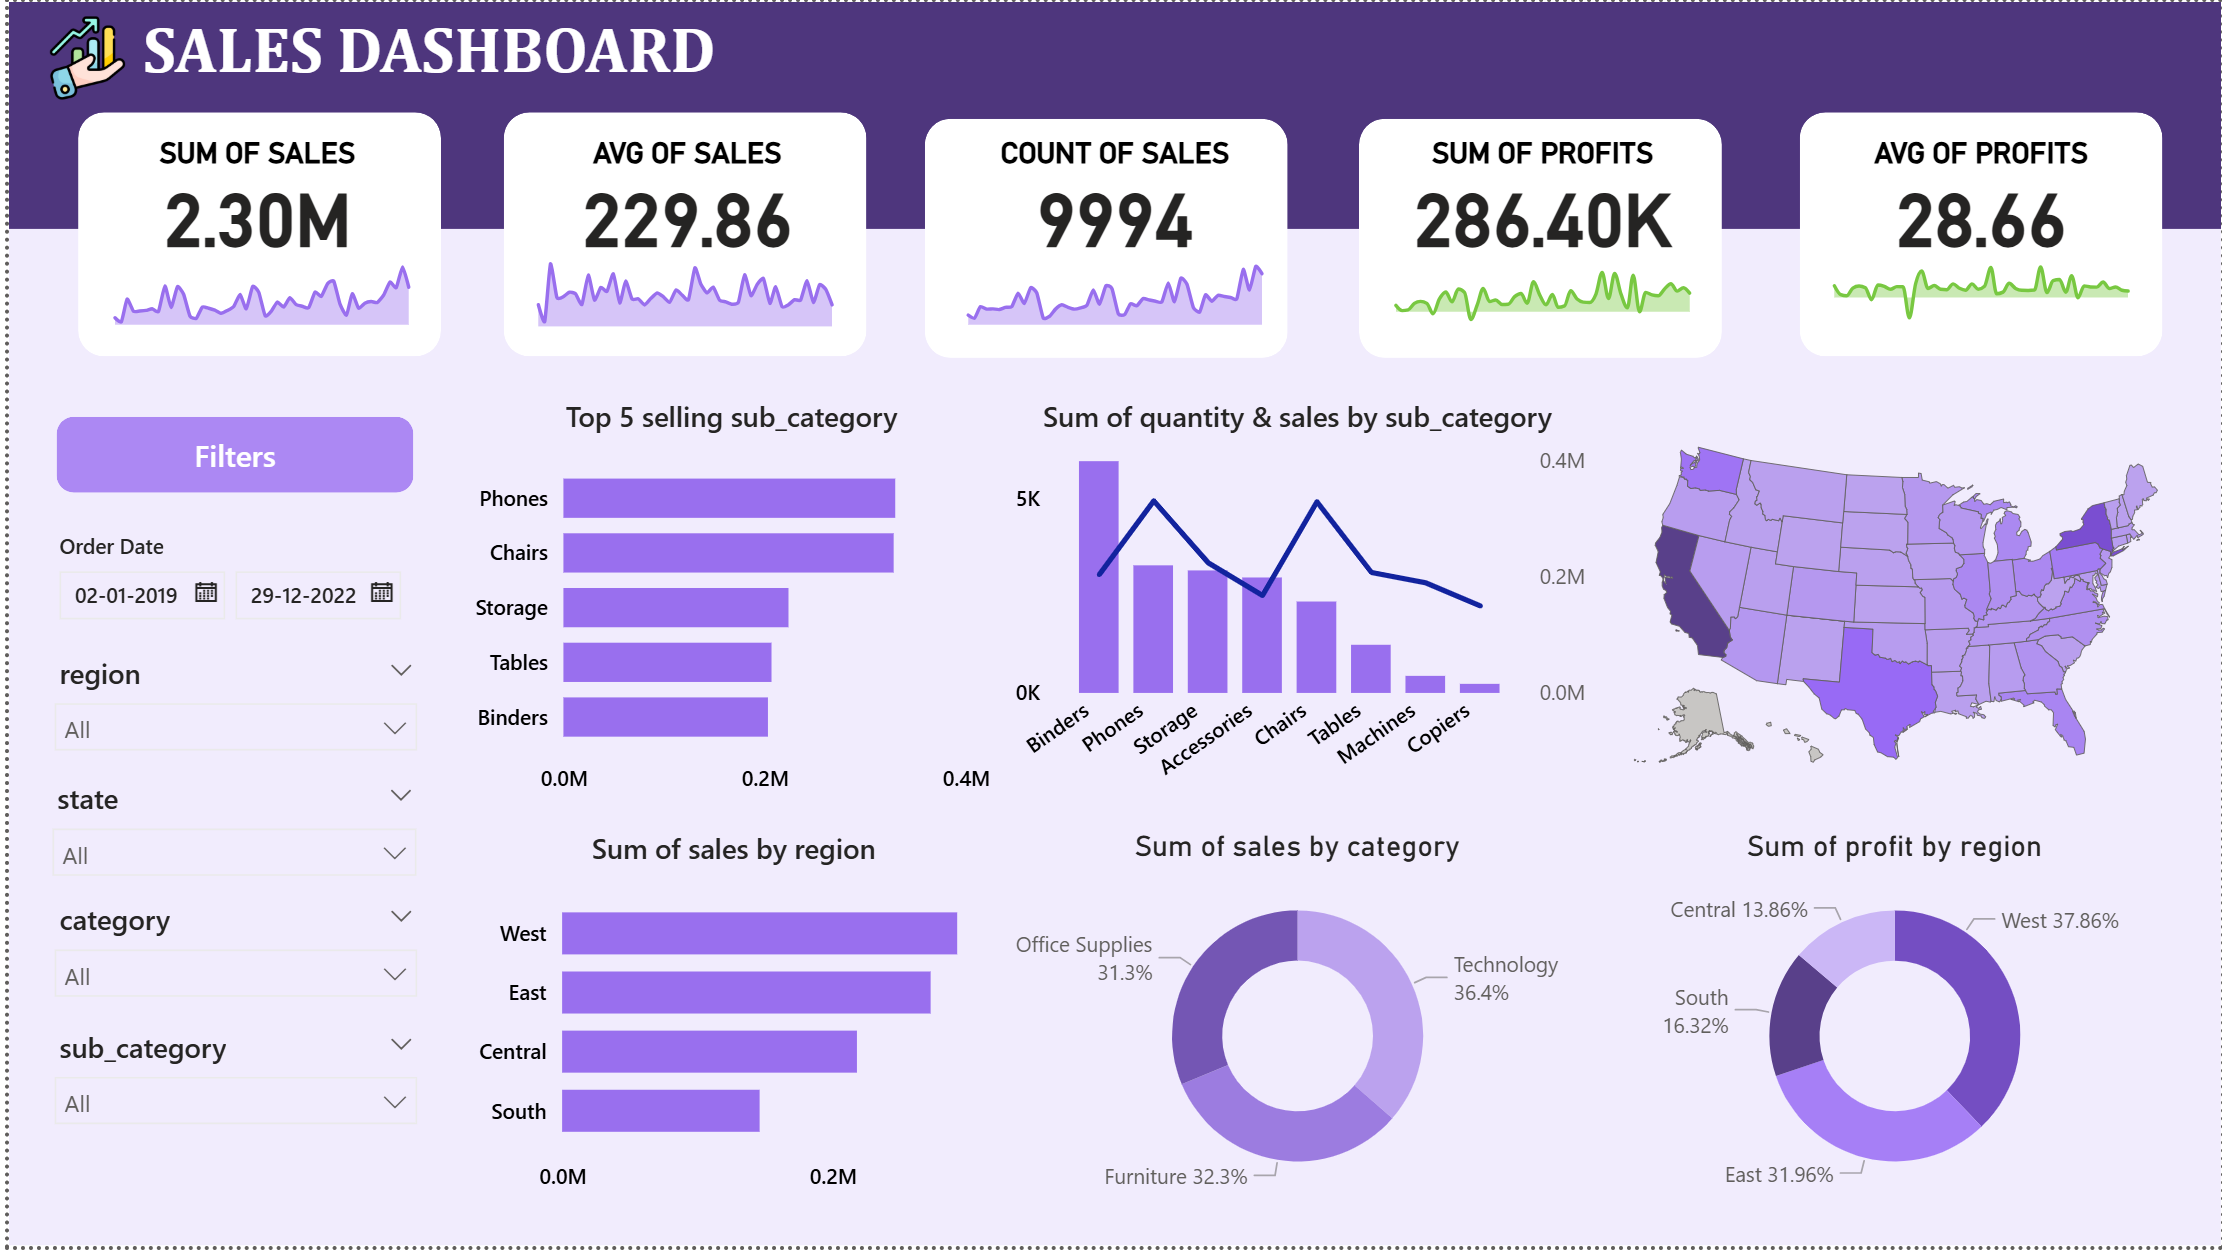

This screenshot's page, from the dashboard's own definition file:
{"tool":"powerbi","page":{"name":"Sales Board","canvas":[1280,720],"ordinal":0},"visuals":[{"type":"group","id":"g1","title":"Group 1","box":[0,0,1280.3,720],"z":0},{"type":"shape","box":[0,104.3,1280,615.7],"z":0,"group":"g1"},{"type":"shape","box":[0,0,1280.3,131.3],"z":1000,"group":"g1"},{"type":"shape","box":[285.7,64.3,210,141.4],"z":1000},{"type":"shape","box":[530,67.1,210,138.6],"z":2000},{"type":"shape","box":[781.4,67.1,210,138.6],"z":3000},{"type":"shape","box":[1035.7,64.3,210,141.4],"z":4000},{"type":"shape","box":[40,64.3,210,141.4],"z":5000},{"type":"image","box":[16.4,0,58.1,64.4],"z":6000},{"type":"slicer","fields":{"Values":["orders.region"]},"box":[16.5,372.5,229.7,72.5],"z":7000},{"type":"textbox","box":[72,0,347.2,61.9],"z":8000},{"type":"card","title":"SUM OF SALES","fields":{"Values":["Sum(orders.sales)"]},"box":[44.3,77.6,200,70],"z":9000},{"type":"card","title":"SUM OF PROFITS","fields":{"Values":["Sum(orders.profit)"]},"box":[787.6,77.6,200,70],"z":10000},{"type":"card","title":"AVG OF SALES","fields":{"Values":["Avg(orders.sales)"]},"box":[292.1,77.6,200,70],"z":11000},{"type":"card","title":"AVG OF PROFITS","fields":{"Values":["Avg(orders.profit)"]},"box":[1041.2,77.5,200,70],"z":12000},{"type":"card","title":"COUNT OF SALES","fields":{"Values":["CountNonNull(orders.sales)"]},"box":[539.9,77.6,200,70],"z":13000},{"type":"donutChart","fields":{"Category":["orders.region"],"Y":["Sum(orders.profit)"]},"box":[918.8,478.8,345,220],"z":14000},{"type":"donutChart","fields":{"Y":["Sum(orders.sales)"],"Category":["orders.category"]},"box":[572.5,478.8,346.2,220],"z":15000},{"type":"shapeMap","fields":{"Value":["Sum(orders.sales)"],"Category":["orders.state"]},"box":[918.8,228.8,346.2,240],"z":16000},{"type":"slicer","fields":{"Values":["orders.state"]},"box":[15.4,445.1,230.8,70.3],"z":17000},{"type":"barChart","title":"Top 5 selling sub_category","fields":{"Y":["Sum(orders.sales)"],"Category":["orders.sub_category"]},"box":[263.8,228.8,308.8,240],"z":18000},{"type":"slicer","fields":{"Values":["orders.category"]},"box":[16.5,515.4,229.7,72.5],"z":19000},{"type":"barChart","fields":{"Y":["Sum(orders.sales)"],"Category":["orders.region"]},"box":[265,478.8,308.8,220],"z":20000},{"type":"slicer","fields":{"Values":["orders.sub_category"]},"box":[16.5,589,229.7,72.5],"z":21000},{"type":"lineChart","fields":{"Y":["Sum(orders.sales)"],"Category":["orders.order_date.Variation.Date Hierarchy.Year","orders.order_date.Variation.Date Hierarchy.Month"]},"box":[45.7,131.4,200,61.4],"z":22000},{"type":"slicer","fields":{"Values":["orders.order_date"]},"box":[16.5,301.1,229.7,71.4],"z":23000},{"type":"lineChart","fields":{"Y":["Avg(orders.sales)"],"Category":["orders.order_date.Variation.Date Hierarchy.Year","orders.order_date.Variation.Date Hierarchy.Month"]},"box":[291.4,131.4,200,61.4],"z":24000},{"type":"lineChart","fields":{"Y":["CountNonNull(orders.sales)"],"Category":["orders.order_date.Variation.Date Hierarchy.Year","orders.order_date.Variation.Date Hierarchy.Month"]},"box":[540,131.4,200,61.4],"z":25000},{"type":"lineChart","fields":{"Category":["orders.order_date.Variation.Date Hierarchy.Year","orders.order_date.Variation.Date Hierarchy.Month"],"Y":["Sum(orders.profit)"]},"box":[787.1,137.1,200,61.4],"z":26000},{"type":"lineChart","fields":{"Category":["orders.order_date.Variation.Date Hierarchy.Year","orders.order_date.Variation.Date Hierarchy.Month"],"Y":["Avg(orders.profit)"]},"box":[1041.4,135.7,200,61.4],"z":27000},{"type":"lineClusteredColumnComboChart","title":"Sum of quantity & sales by sub_category","fields":{"Category":["orders.sub_category"],"Y":["Sum(orders.quantity)"],"Y2":["Sum(orders.sales)"]},"box":[572.5,228.8,346.2,240],"z":28000},{"type":"shape","box":[27.5,239.6,206.6,44],"z":29000}]}

Visuals, with their boxes in screenshot pixels (x1, y1, x2, y2), scaled from the page's 1280x720 canvas onto the 2222x1260 screenshot:
"Group 1" group: locate(0, 0, 2221, 1259)
shape: locate(0, 183, 2221, 1259)
shape: locate(0, 0, 2221, 230)
shape: locate(496, 113, 861, 360)
shape: locate(920, 117, 1285, 360)
shape: locate(1356, 117, 1721, 360)
shape: locate(1798, 113, 2162, 360)
shape: locate(69, 113, 434, 360)
image: locate(28, 0, 129, 113)
slicer - orders.region: locate(29, 652, 427, 779)
textbox: locate(125, 0, 728, 108)
"SUM OF SALES" card: locate(77, 136, 424, 258)
"SUM OF PROFITS" card: locate(1367, 136, 1714, 258)
"AVG OF SALES" card: locate(507, 136, 854, 258)
"AVG OF PROFITS" card: locate(1807, 136, 2155, 258)
"COUNT OF SALES" card: locate(937, 136, 1284, 258)
donutChart - orders.region x Sum(orders.profit): locate(1595, 838, 2194, 1223)
donutChart - Sum(orders.sales) x orders.category: locate(994, 838, 1595, 1223)
shapeMap - Sum(orders.sales) x orders.state: locate(1595, 400, 2196, 820)
slicer - orders.state: locate(27, 779, 427, 902)
"Top 5 selling sub_category" barChart: locate(458, 400, 994, 820)
slicer - orders.category: locate(29, 902, 427, 1029)
barChart - Sum(orders.sales) x orders.region: locate(460, 838, 996, 1223)
slicer - orders.sub_category: locate(29, 1031, 427, 1158)
lineChart - Sum(orders.sales) x orders.order_date.Variation.Date Hierarchy.Year: locate(79, 230, 427, 337)
slicer - orders.order_date: locate(29, 527, 427, 652)
lineChart - Avg(orders.sales) x orders.order_date.Variation.Date Hierarchy.Year: locate(506, 230, 853, 337)
lineChart - CountNonNull(orders.sales) x orders.order_date.Variation.Date Hierarchy.Year: locate(937, 230, 1285, 337)
lineChart - orders.order_date.Variation.Date Hierarchy.Year x orders.order_date.Variation.Date Hierarchy.Month: locate(1366, 240, 1714, 347)
lineChart - orders.order_date.Variation.Date Hierarchy.Year x orders.order_date.Variation.Date Hierarchy.Month: locate(1808, 237, 2155, 345)
"Sum of quantity & sales by sub_category" lineClusteredColumnComboChart: locate(994, 400, 1595, 820)
shape: locate(48, 419, 406, 496)
